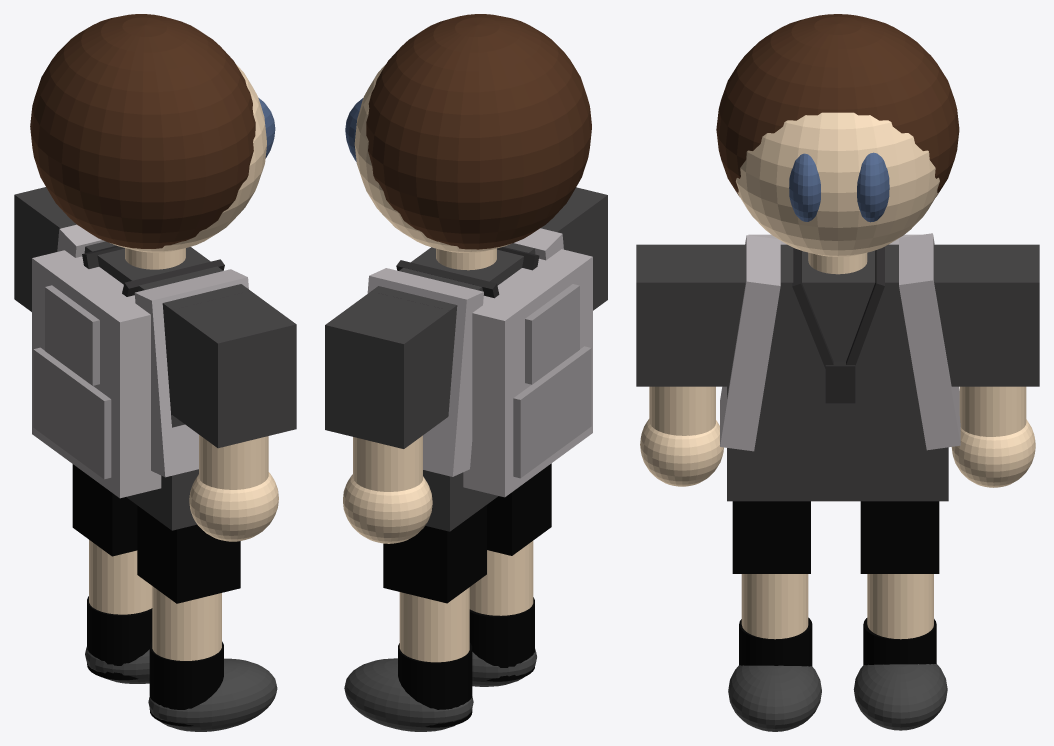
The model's file is Hayden.fbx.
The picture shows the model from 3 angles, left to right: view 1: azimuth 30°, elevation 25°; view 2: azimuth 150°, elevation 25°; view 3: azimuth 270°, elevation 25°; orthographic projection.
Visible parts, largest first — view 1: Sphere.003, Cube.001, Cube.007, Sphere.018, Sphere.015, Cube.004, Cube.009, Cube.005, Cube, Sphere.019, Cube.003, Cube.002 (+7 smaller); view 2: Sphere.003, Cube.002, Cube.007, Sphere.019, Sphere.014, Cube.006, Cube.009, Cube.003, Cube, Sphere.018, Cube.004, Cube.008 (+8 smaller); view 3: Cube, Sphere.003, Sphere, Cube.002, Cube.001, Sphere.018, Sphere.019, Cube.006, Cube.005, Sphere.014, Sphere.015, Cube.003 (+9 smaller).
Boxes of the visible parts, x1,y1,x2,y2 form: Sphere.003: (30,14,255,248); Cube.001: (171,291,296,448); Cube.007: (32,250,161,498); Sphere.018: (148,586,277,731); Sphere.015: (189,435,278,541); Cube.004: (137,505,240,603); Cube.009: (33,347,111,479); Cube.005: (134,269,248,477); Cube: (60,224,250,530); Sphere.019: (85,540,152,683); Cube.003: (72,464,137,556); Cube.002: (14,187,75,311); Sphere.003: (366,14,591,249); Cube.002: (325,291,450,448); Cube.007: (463,249,592,497); Sphere.019: (344,587,473,731); Sphere.014: (343,435,432,543); Cube.006: (367,268,483,476); Cube.009: (513,346,591,478); Cube.003: (383,505,486,603); Cube: (371,224,561,531); Sphere.018: (469,541,536,686); Cube.004: (487,463,551,555); Cube.008: (525,284,579,384); Cube: (727,244,948,501); Sphere.003: (716,14,959,196); Sphere: (736,112,939,256); Cube.002: (948,244,1039,386); Cube.001: (636,244,727,386); Sphere.018: (728,574,821,731); Sphere.019: (853,574,947,730); Cube.006: (899,233,960,450); Cube.005: (720,235,780,451); Sphere.014: (951,386,1035,487); Sphere.015: (640,386,723,486); Cube.003: (860,501,939,573).
Size of the model in its own units: 218 by 675 by 364.
